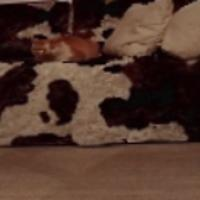asleep: (30, 28, 101, 63)
